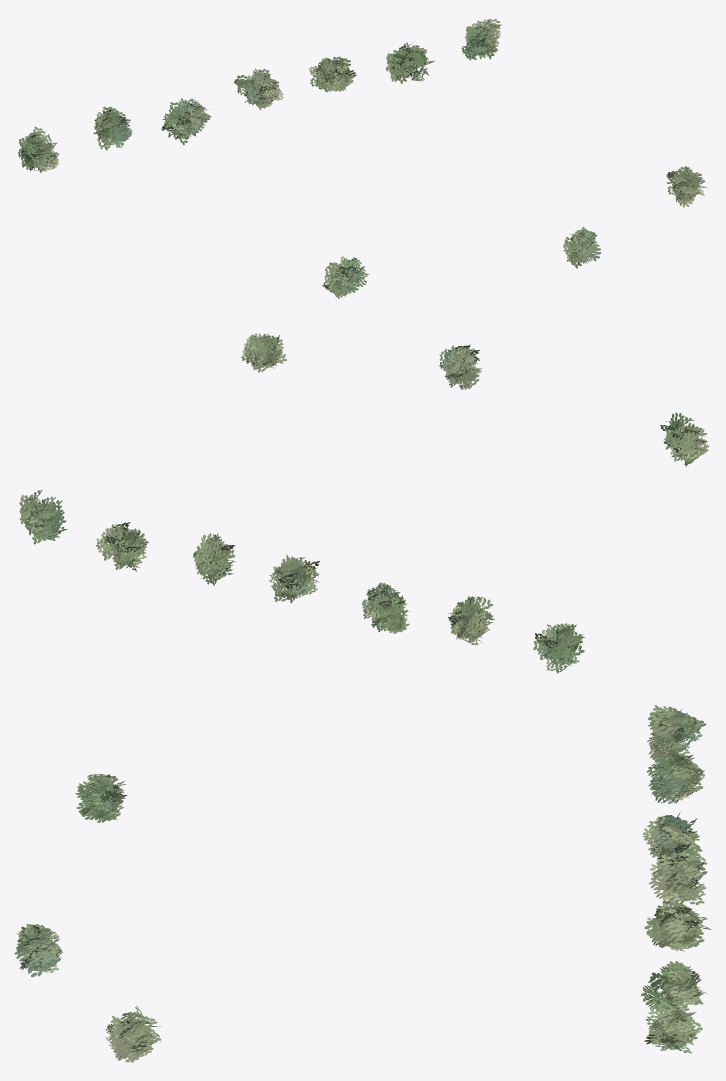
File: campus-tree-1_-4-far.glb
3 renders of one model, top to bottom at view 1: azimuth 30°, elevation 25°; view 2: azimuth 150°, elevation 25°; view 3: azimuth 270°, elevation 25°, orthographic. The views are drawn at different scales.
Visible parts, largest first — view 1: Campus leaf canopy; view 2: Campus leaf canopy; view 3: Campus leaf canopy.
Part boxes in pixels (x1,y1,x2,y2): Campus leaf canopy: [18, 18, 706, 298]; Campus leaf canopy: [19, 333, 709, 673]; Campus leaf canopy: [14, 705, 711, 1062].
Size of the model in its own units: 73.98 by 7.77 by 66.26.
Materials: 1 (1 with a texture image).
